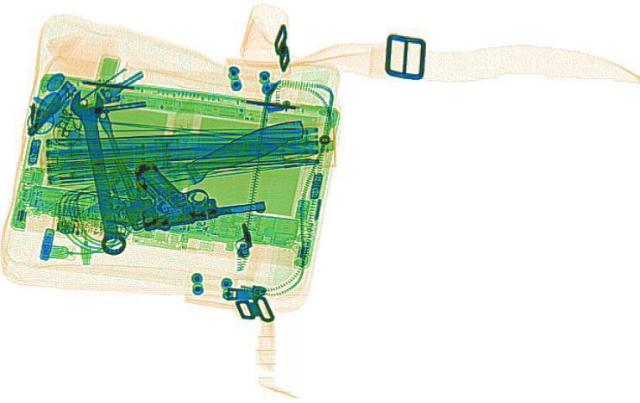Gun: (116, 148, 270, 231)
Knife: (66, 114, 312, 231)
Wrench: (68, 88, 128, 253)
